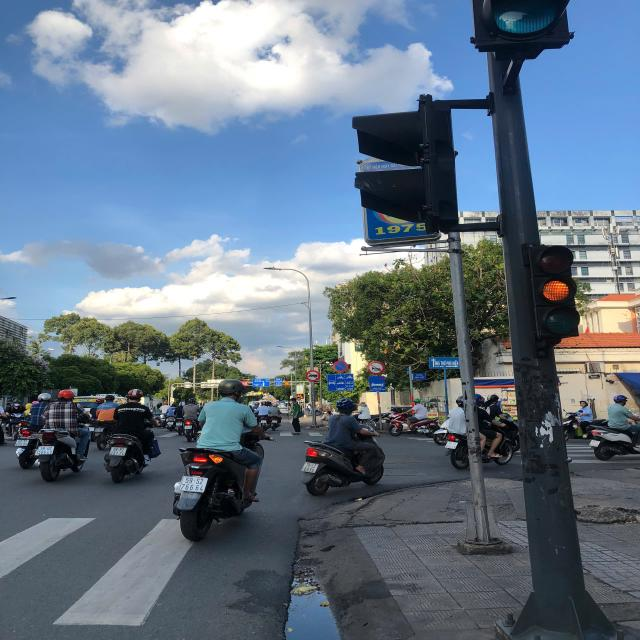Bien bao cam do xe: (331, 359, 349, 374)
Bien bao cam xe so-mi ro-mooc: (305, 369, 321, 383)
